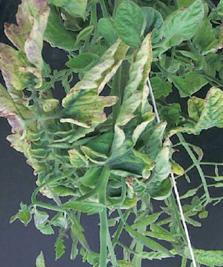Tomato leaf yellow virus: (62, 39, 130, 126), (163, 0, 204, 54), (190, 77, 223, 141), (111, 0, 148, 50), (180, 240, 223, 267), (54, 0, 94, 17)
